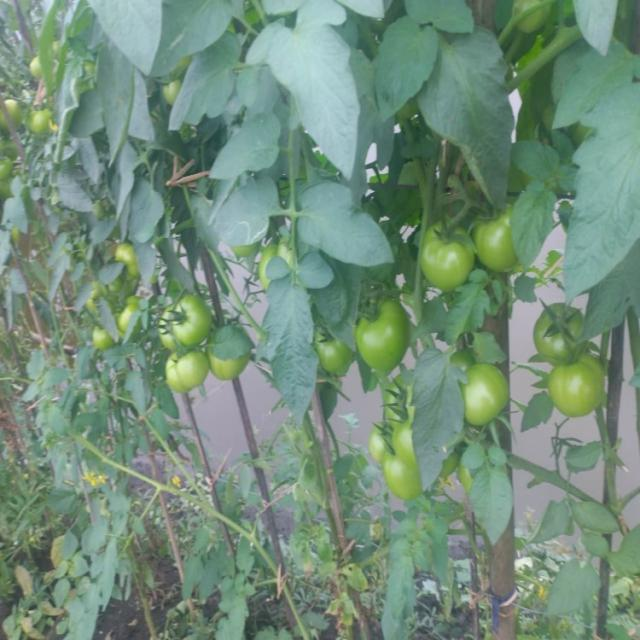tomato: (545, 352, 620, 418), (356, 295, 417, 376), (419, 213, 479, 291), (146, 288, 219, 349), (472, 201, 522, 277), (535, 304, 590, 369), (460, 357, 508, 429), (160, 340, 217, 394), (317, 321, 357, 386), (383, 452, 418, 512), (390, 386, 420, 452), (366, 425, 395, 468), (4, 89, 30, 125)
